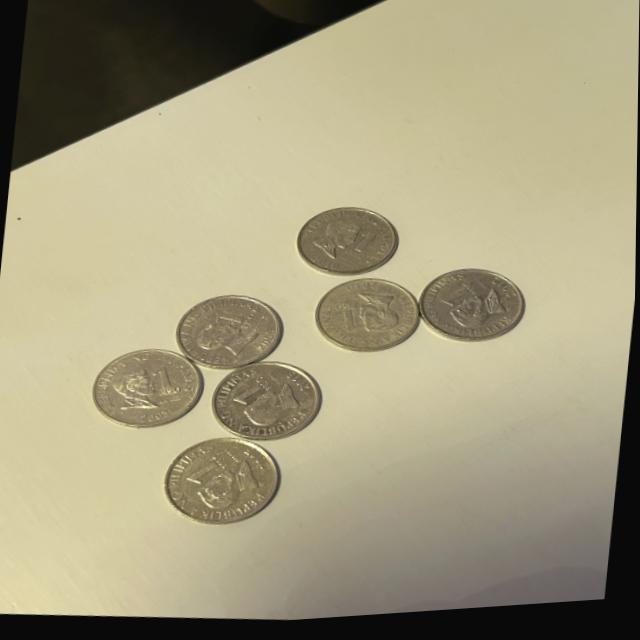1_Old_Front: (182, 448, 234, 494), (232, 372, 280, 412), (150, 360, 187, 408), (341, 226, 380, 269), (328, 301, 367, 343), (439, 282, 480, 319), (213, 307, 257, 339)
